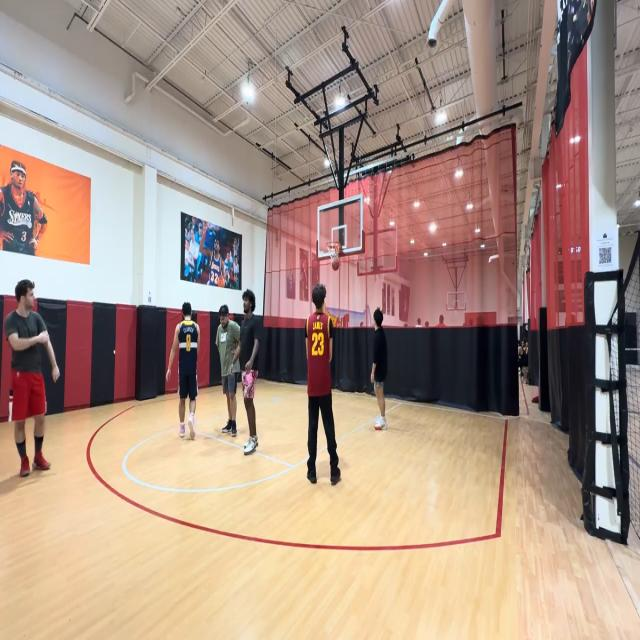Basketball: (331, 257, 339, 272)
Basketball Rim: (326, 240, 341, 263)
Player: (0, 277, 60, 484), (300, 284, 342, 488), (169, 301, 202, 446), (212, 305, 244, 439), (236, 289, 260, 460), (369, 306, 389, 437)
